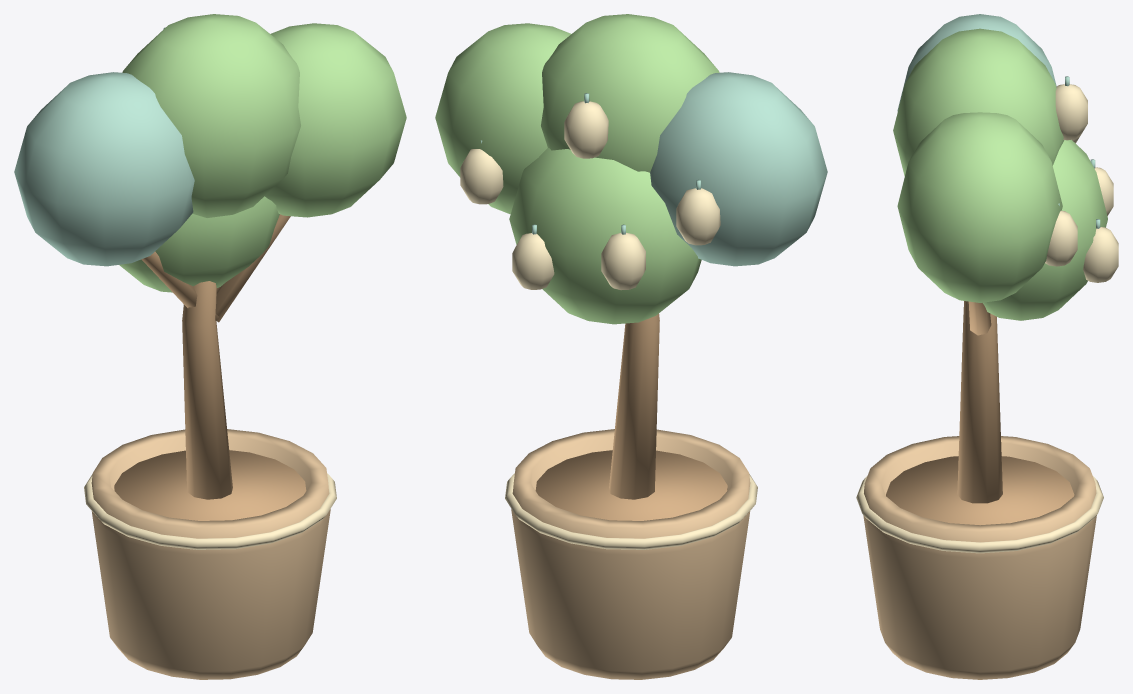
File: plant_lemon.glb
The picture shows the model from 3 angles, left to right: view 1: azimuth 30°, elevation 25°; view 2: azimuth 150°, elevation 25°; view 3: azimuth 270°, elevation 25°; orthographic projection. The views are drawn at different scales.
Visible parts, largest first — view 1: Body; view 2: Body; view 3: Body.
Part boxes in pixels (bbox=[...]): Body: bbox=[14, 14, 406, 679]; Body: bbox=[435, 14, 827, 679]; Body: bbox=[856, 14, 1118, 679].
Bounding box in the file's own units: 0.82 × 1.3 × 0.5127.
5 materials, 5 textured.
